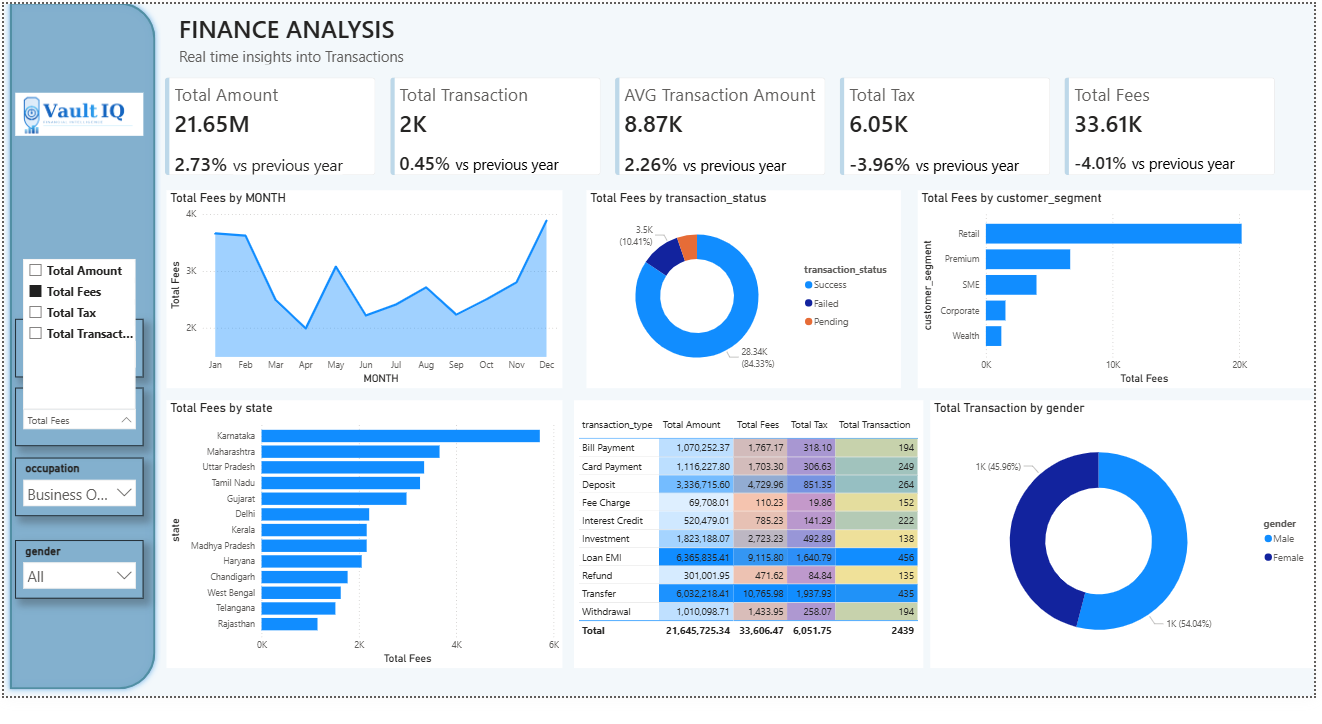

This screenshot's page, from the dashboard's own definition file:
{"tool":"powerbi","page":{"name":"Page 1","canvas":[1800,950],"ordinal":0},"visuals":[{"type":"shape","box":[0,-10,216,960],"z":0},{"type":"cardVisual","fields":{"Data":["calendar table.DASHBOARD TITLE"]},"box":[216,0,384,96],"z":1000},{"type":"cardVisual","fields":{"Data":["finance_transactions.Total Amount","finance_transactions.Total Transaction","finance_transactions.AVG Transaction Amount","finance_transactions.Total Tax","finance_transactions.Total Fees"]},"box":[216,96,1536,144],"z":2000},{"type":"slicer","fields":{"Values":["calendar table.YEAR"]},"box":[16,432,176,80],"z":3000},{"type":"areaChart","fields":{"Y":["finance_transactions.Total Transaction"],"Category":["calendar table.MONTH"]},"box":[224,256,544,272],"z":4000},{"type":"donutChart","fields":{"Y":["finance_transactions.Total Transaction"],"Category":["finance_transactions.transaction_status"]},"box":[800,256,432,272],"z":5000},{"type":"barChart","fields":{"Y":["finance_transactions.Total Transaction"],"Category":["customers.customer_segment"]},"box":[1256,256,544,272],"z":6000},{"type":"slicer","fields":{"Values":["Dynamic metric.Dynamic metric"]},"box":[16,528,176,80],"z":7000},{"type":"barChart","fields":{"Y":["finance_transactions.Total Transaction"],"Category":["customers.state"]},"box":[224,544,544,368],"z":8000},{"type":"tableEx","fields":{"Values":["finance_transactions.transaction_type","finance_transactions.Total Amount","finance_transactions.Total Fees","finance_transactions.Total Tax","finance_transactions.Total Transaction"]},"box":[784,544,480,368],"z":9000},{"type":"donutChart","fields":{"Category":["customers.gender"],"Y":["finance_transactions.Total Transaction"]},"box":[1272,544,528,368],"z":10000},{"type":"slicer","fields":{"Values":["customers.occupation"]},"box":[16,624,176,80],"z":11000},{"type":"slicer","fields":{"Values":["customers.gender"]},"box":[16,736,176,80],"z":12000},{"type":"image","box":[16,64,176,176],"z":13000}]}

Visuals, with their boxes on the page's 1800x950 design canvas (x1, y1, x2, y2). These are canvas units, not pixel positions in the 1322x724 screenshot, which may show the page scaled, cropped or inside an application window:
shape: (x1=0, y1=-10, x2=216, y2=950)
cardVisual - calendar table.DASHBOARD TITLE: (x1=216, y1=0, x2=600, y2=96)
cardVisual - finance_transactions.Total Amount x finance_transactions.Total Transaction: (x1=216, y1=96, x2=1752, y2=240)
slicer - calendar table.YEAR: (x1=16, y1=432, x2=192, y2=512)
areaChart - finance_transactions.Total Transaction x calendar table.MONTH: (x1=224, y1=256, x2=768, y2=528)
donutChart - finance_transactions.Total Transaction x finance_transactions.transaction_status: (x1=800, y1=256, x2=1232, y2=528)
barChart - finance_transactions.Total Transaction x customers.customer_segment: (x1=1256, y1=256, x2=1800, y2=528)
slicer - Dynamic metric.Dynamic metric: (x1=16, y1=528, x2=192, y2=608)
barChart - finance_transactions.Total Transaction x customers.state: (x1=224, y1=544, x2=768, y2=912)
tableEx - finance_transactions.transaction_type x finance_transactions.Total Amount: (x1=784, y1=544, x2=1264, y2=912)
donutChart - customers.gender x finance_transactions.Total Transaction: (x1=1272, y1=544, x2=1800, y2=912)
slicer - customers.occupation: (x1=16, y1=624, x2=192, y2=704)
slicer - customers.gender: (x1=16, y1=736, x2=192, y2=816)
image: (x1=16, y1=64, x2=192, y2=240)
